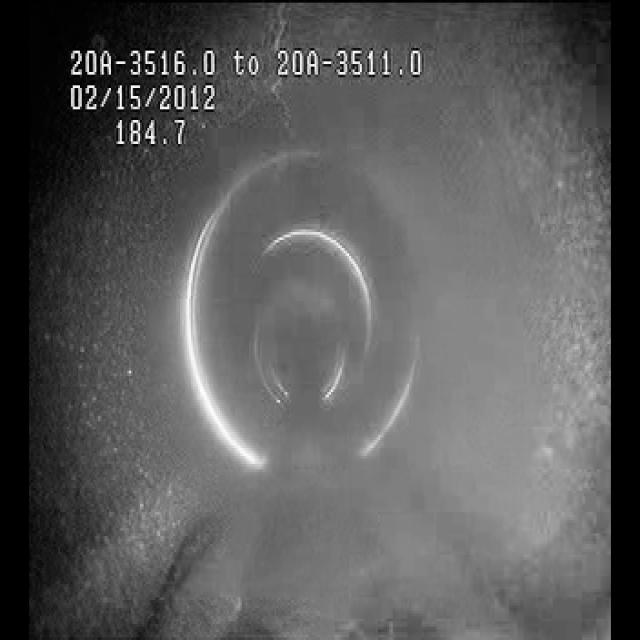Crack: (233, 0, 313, 146)
